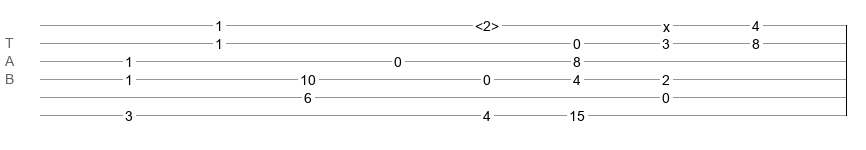0: (394, 54, 402, 64), (483, 72, 491, 82), (573, 36, 581, 46), (662, 90, 670, 100)
1: (125, 54, 133, 64), (125, 72, 133, 82), (215, 18, 223, 28), (215, 36, 223, 46)
10: (300, 72, 316, 82)
15: (569, 108, 585, 118)
2: (662, 72, 670, 82)
3: (125, 108, 133, 118), (662, 36, 670, 46)
4: (483, 108, 491, 118), (573, 72, 581, 82), (752, 18, 760, 28)
6: (304, 90, 312, 100)
8: (573, 54, 581, 64), (752, 36, 760, 46)
harmonic: (475, 18, 499, 28)
x: (663, 19, 670, 27)
